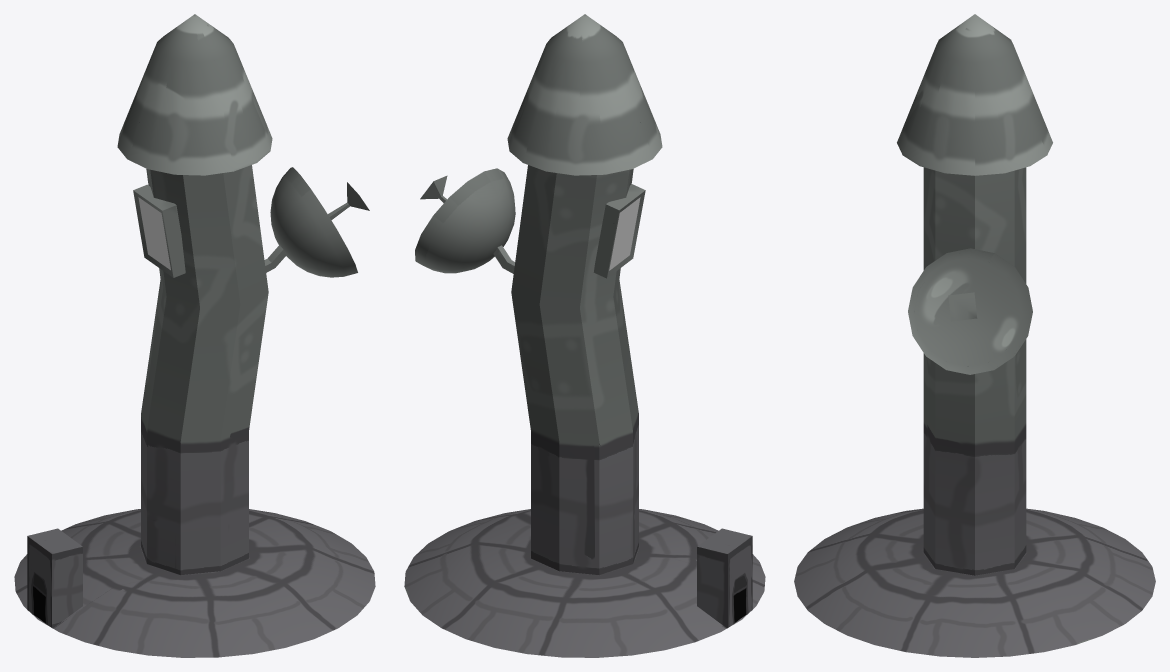
3 renders of one model, left to right at view 1: azimuth 30°, elevation 25°; view 2: azimuth 150°, elevation 25°; view 3: azimuth 270°, elevation 25°, orthographic.
Visible parts, largest first — view 1: House, Window; view 2: House, Window; view 3: House.
Part boxes in pixels (x1,y1,x2,y2): House: [14, 14, 375, 657]; Window: [138, 197, 170, 270]; House: [404, 14, 765, 657]; Window: [609, 197, 640, 270]; House: [794, 14, 1155, 657].
Size of the model in its own units: 4585 by 7754 by 4480.
